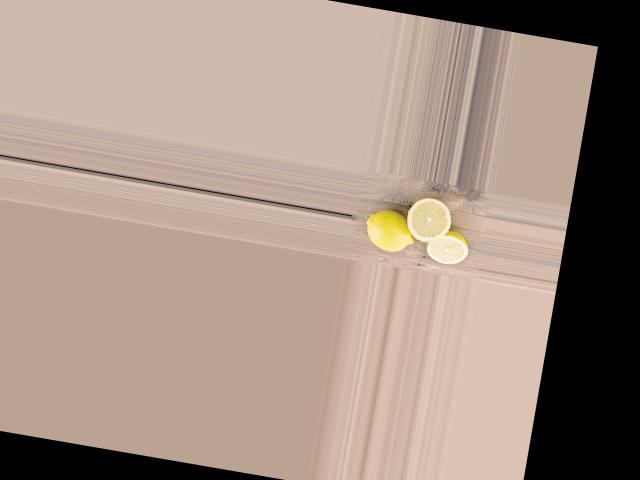lemon: (363, 206, 418, 260)
